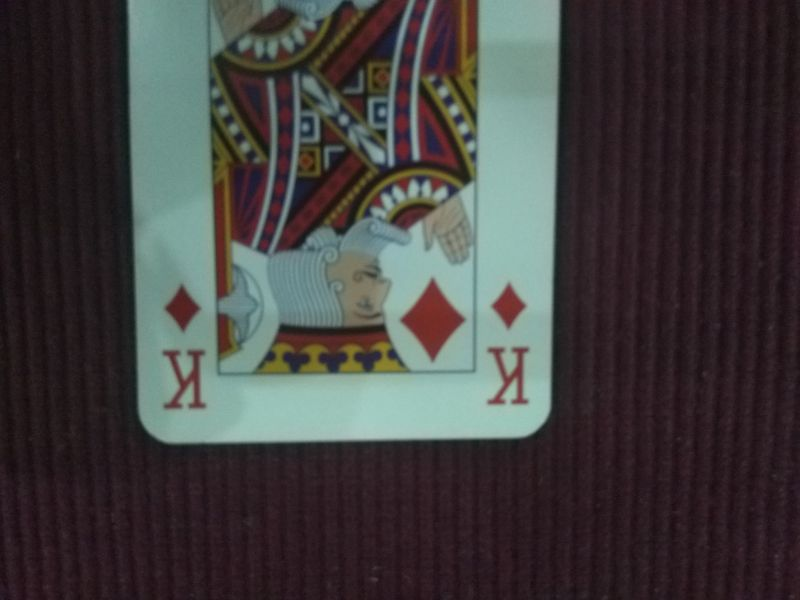Kd: (155, 278, 213, 413), (481, 277, 536, 409)
